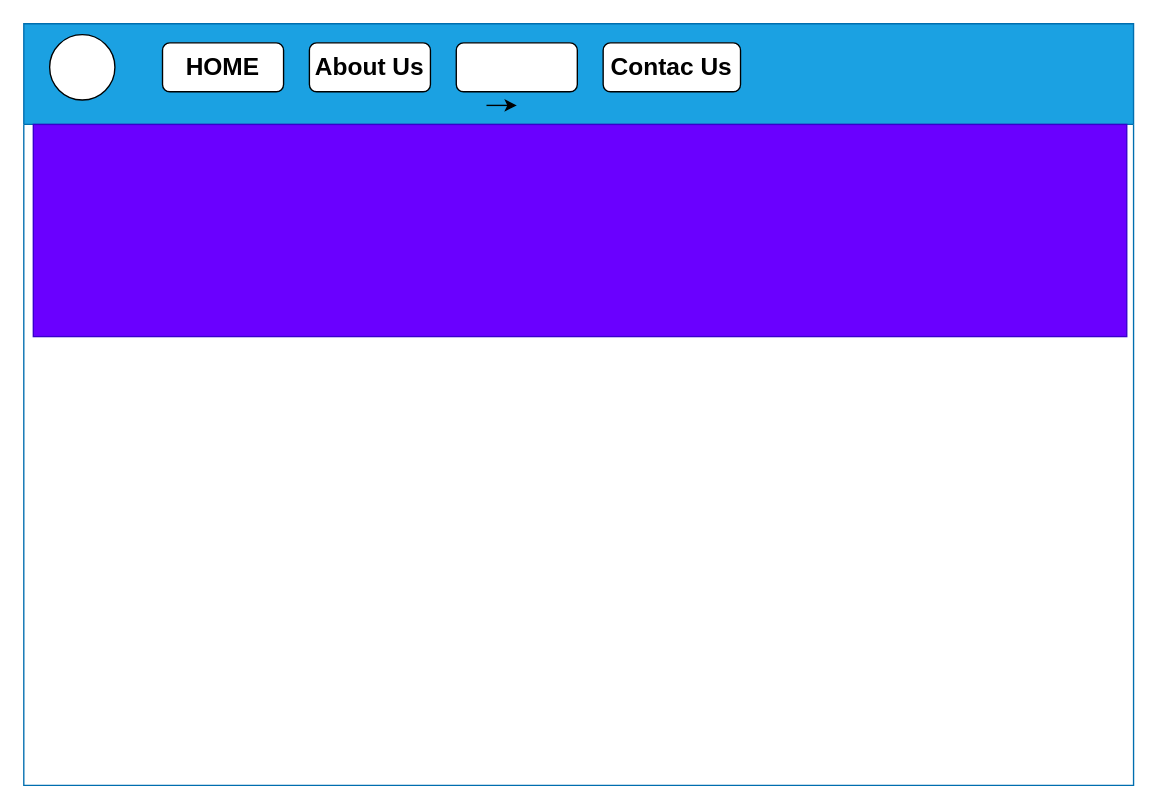
Some shapes in this 1157 by 809 pixel diagram are drawn without their labels. The centre of each missing label's shape, as x and y in pixels:
LOGO: [81,66]
Menu: [516,66]
